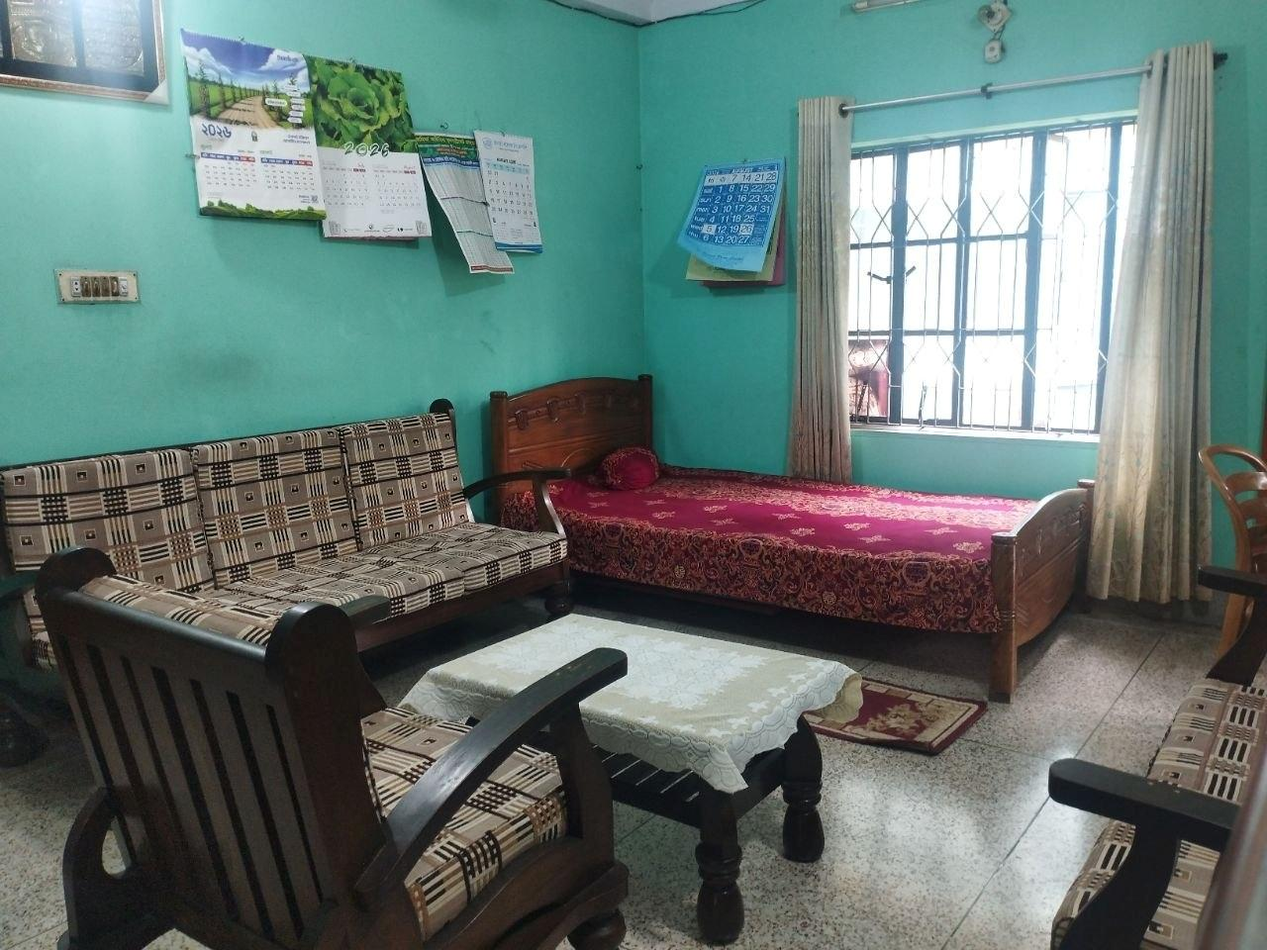Light: (446, 607, 914, 944), (1037, 0, 1085, 32)
Photo: (242, 36, 381, 137)
Pillow: (634, 446, 726, 490)
Remote: (339, 56, 470, 145)
Window: (910, 113, 1229, 448)
